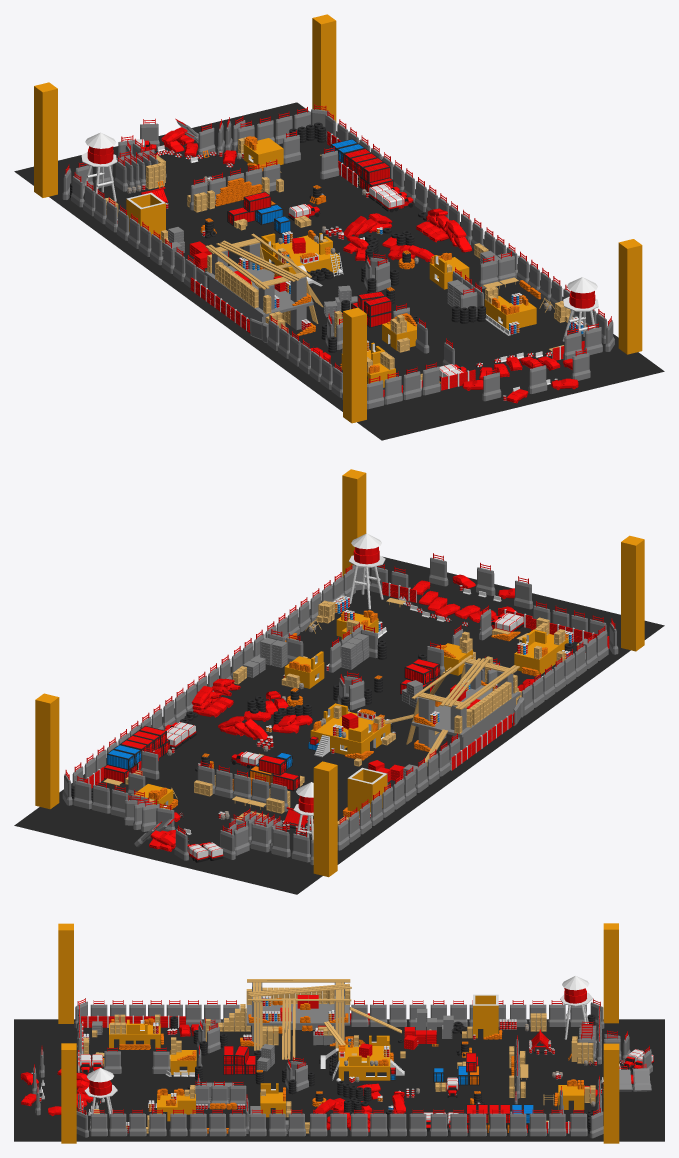
Rendered from Scenary.fbx.
3 renders of one model, top to bottom at view 1: azimuth 30°, elevation 25°; view 2: azimuth 150°, elevation 25°; view 3: azimuth 270°, elevation 25°, orthographic. The views are drawn at different scales.
Visible parts, largest first — view 1: PLANE, Cube.050, Cube.206, Cube.207, Cube.191, Cube.201, tower.001, tower.002, Room.022, Cube.002, Room.024, Room.025 (+2 smaller); view 2: PLANE, Cube.050, Cube.191, Cube.201, Cube.207, Cube.206, Cube.002, tower.002, Room.022, Room.023, barricade.089, tower.001 (+1 smaller); view 3: PLANE, Cube.201, Cube.050, Cube.206, Cube.207, Cube.191, Cube.002, Room.022, tower.001, tower.002, Room.023, Room.024 (+44 smaller).
Boxes of the visible parts, box(x1,y1,x2,y2) form: PLANE: box(14, 102, 664, 440); Cube.050: box(204, 243, 313, 330); Cube.206: box(618, 239, 642, 354); Cube.207: box(343, 307, 366, 423); Cube.191: box(34, 82, 57, 197); Cube.201: box(312, 14, 336, 122); tower.001: box(81, 132, 116, 201); tower.002: box(562, 277, 598, 341); Room.022: box(126, 192, 165, 239); Cube.002: box(261, 235, 339, 274); Room.024: box(484, 296, 536, 329); Room.025: box(243, 138, 283, 165); PLANE: box(14, 556, 664, 894); Cube.050: box(411, 663, 520, 750); Cube.191: box(313, 761, 337, 877); Cube.201: box(35, 693, 59, 809); Cube.207: box(621, 535, 644, 651); Cube.206: box(342, 469, 366, 577); Cube.002: box(310, 711, 390, 754); tower.002: box(348, 533, 385, 609); Room.022: box(347, 767, 387, 815); Room.023: box(514, 634, 568, 674); barricade.089: box(337, 671, 365, 710); tower.001: box(293, 782, 313, 839); PLANE: box(14, 1019, 664, 1141); Cube.201: box(603, 1043, 619, 1143); Cube.050: box(246, 982, 349, 1043); Cube.206: box(61, 1043, 76, 1143); Cube.207: box(58, 923, 73, 1023); Cube.191: box(603, 923, 618, 1023); Cube.002: box(338, 1044, 390, 1080); Room.022: box(473, 994, 498, 1038); tower.001: box(560, 976, 592, 1039); tower.002: box(84, 1068, 117, 1131); Room.023: box(109, 1023, 160, 1048); Room.024: box(157, 1094, 195, 1121).
Size of the model in its own units: 11613 by 4208 by 25200.
